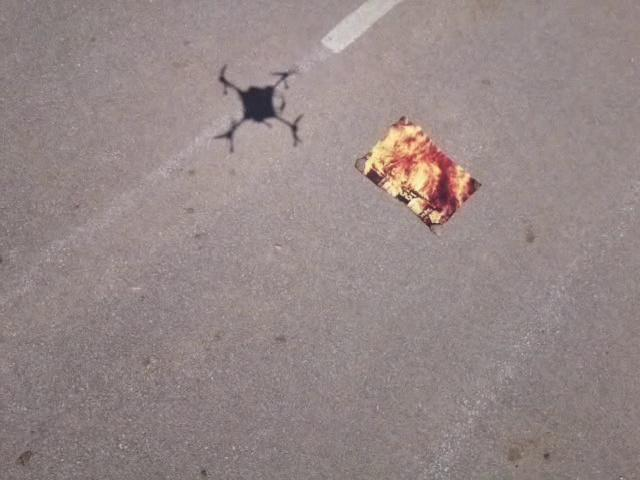fire-poster: (352, 114, 483, 236)
